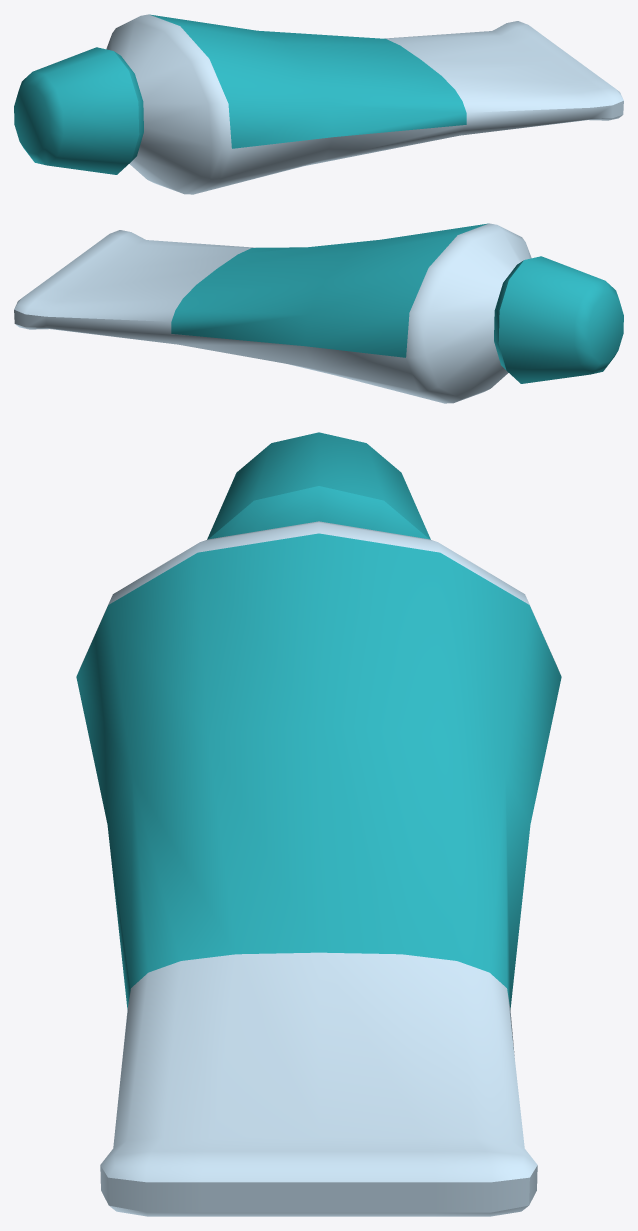
File: pasta_dente_pacote.glb
3 renders of one model, top to bottom at view 1: azimuth 30°, elevation 25°; view 2: azimuth 150°, elevation 25°; view 3: azimuth 270°, elevation 25°, orthographic. The views are drawn at different scales.
Visible parts, largest first — view 1: pasta_dente_pacote; view 2: pasta_dente_pacote; view 3: pasta_dente_pacote.
Part boxes in pixels (x1,y1,x2,y2): pasta_dente_pacote: [14, 14, 623, 194]; pasta_dente_pacote: [14, 223, 623, 403]; pasta_dente_pacote: [76, 432, 561, 1216].
Bounding box in the file's own units: 0.1814 × 0.0484 × 0.0695.
1 material, 1 textured.
